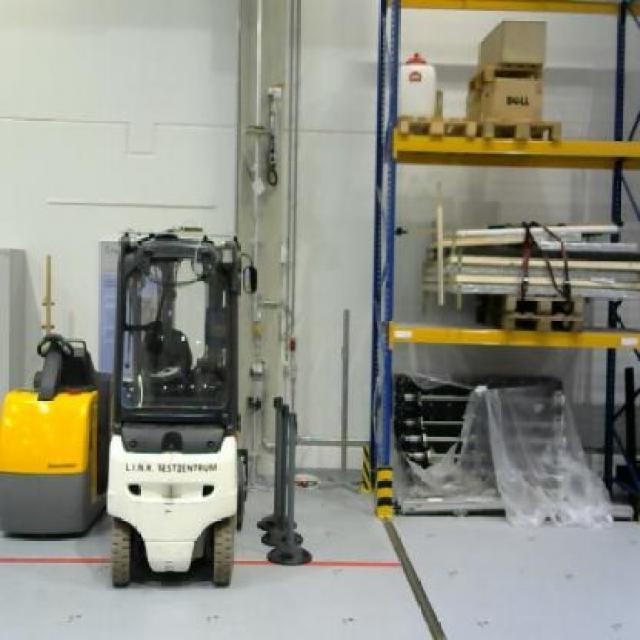box: (464, 78, 544, 120), (477, 19, 545, 67)
